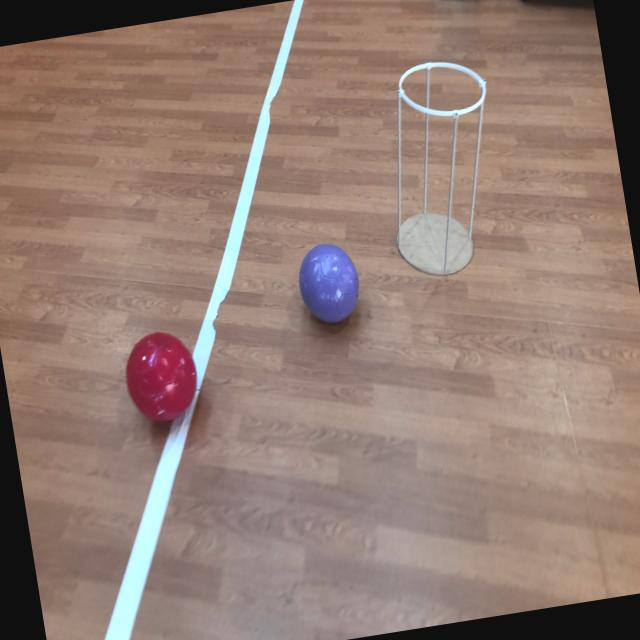purple_ball: (292, 238, 367, 330)
red_ball: (118, 327, 204, 427)
